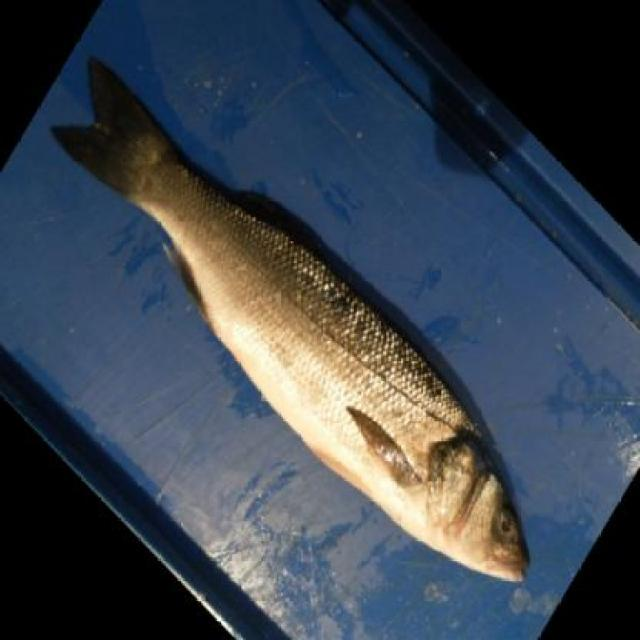Healthy Fish: (52, 58, 541, 589)
